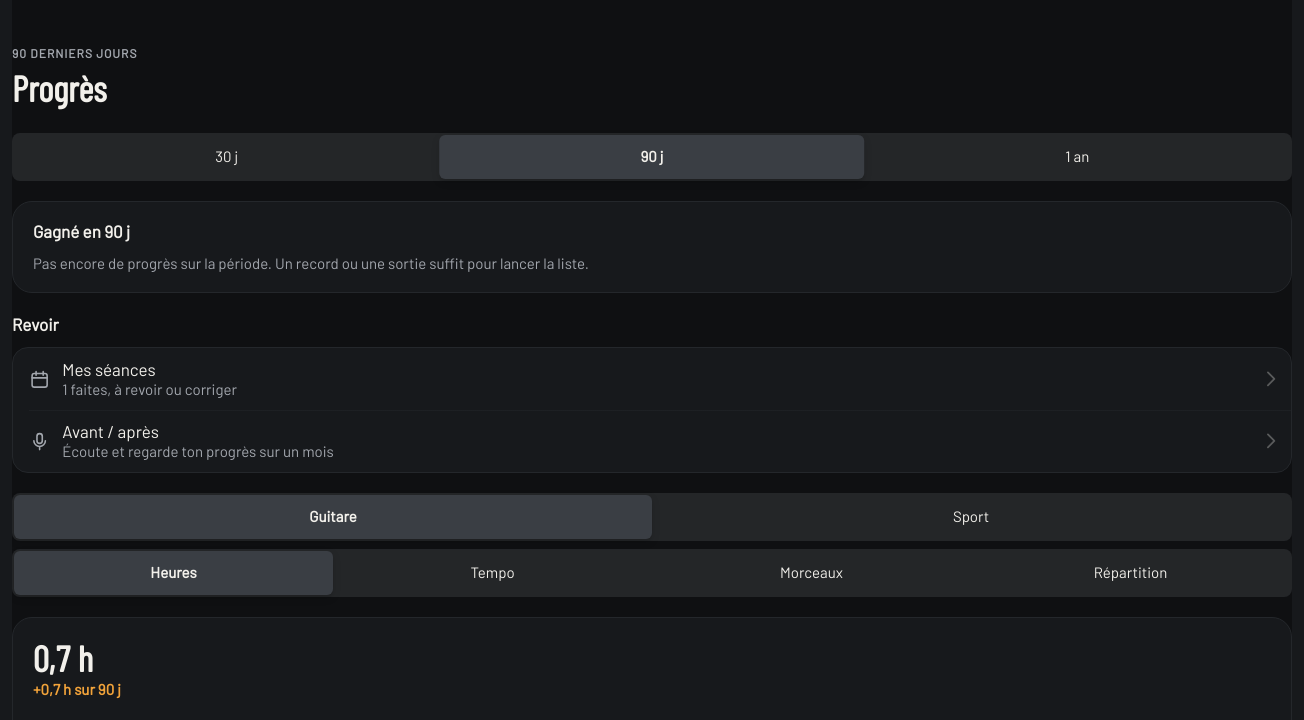
Scenario: ProgressPage › Répartition guitare : temps par catégorie
Click the button "Guitare": (333, 517) [14, 495, 652, 539]
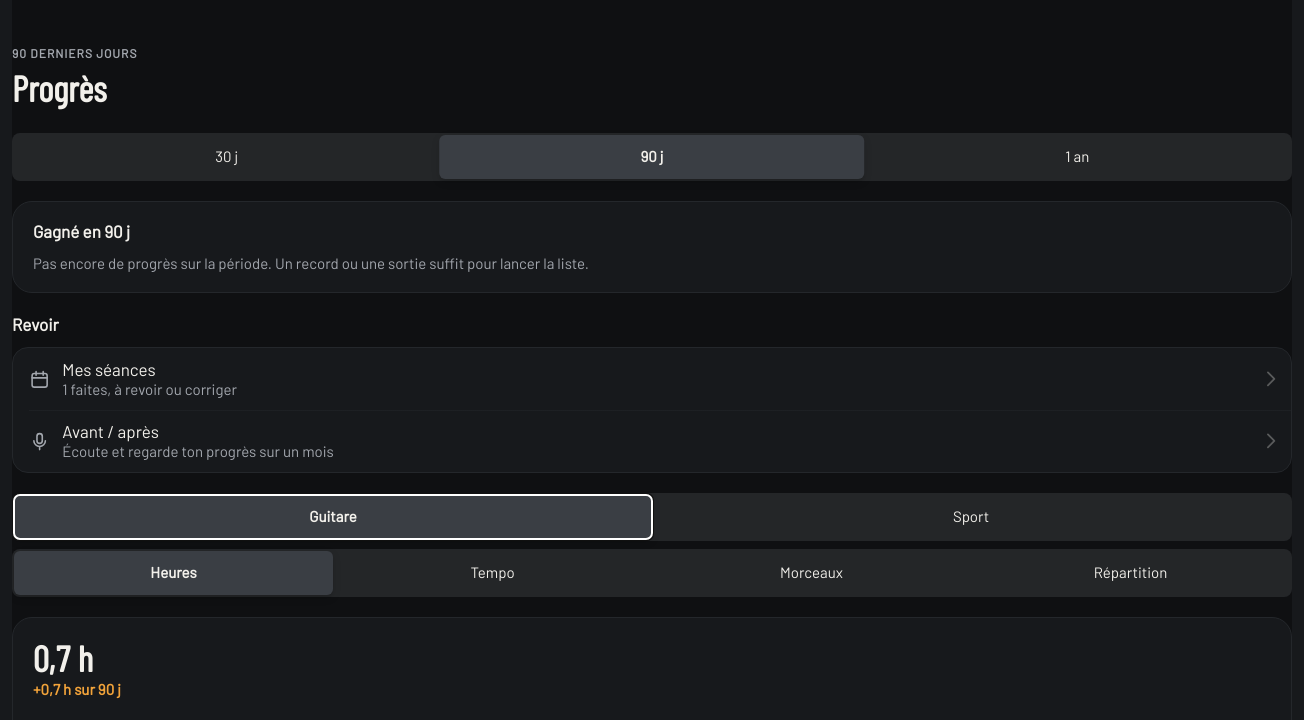
Click the button "Répartition": (1130, 573) [971, 551, 1290, 595]
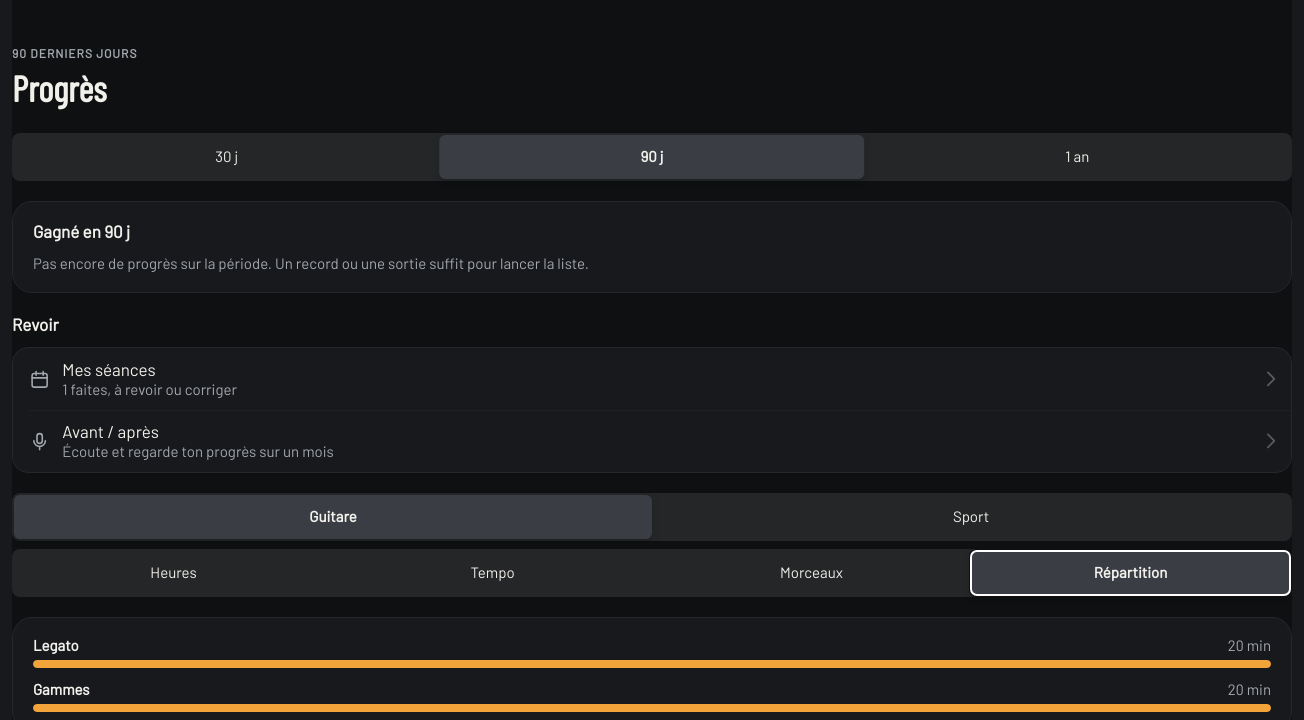
Expected: the list named "Temps de guitare par catégorie" is shown, [33, 636, 1271, 712]
Expected: the text "20 min" is shown 2 times, [1228, 636, 1271, 656]; [1228, 680, 1271, 700]
